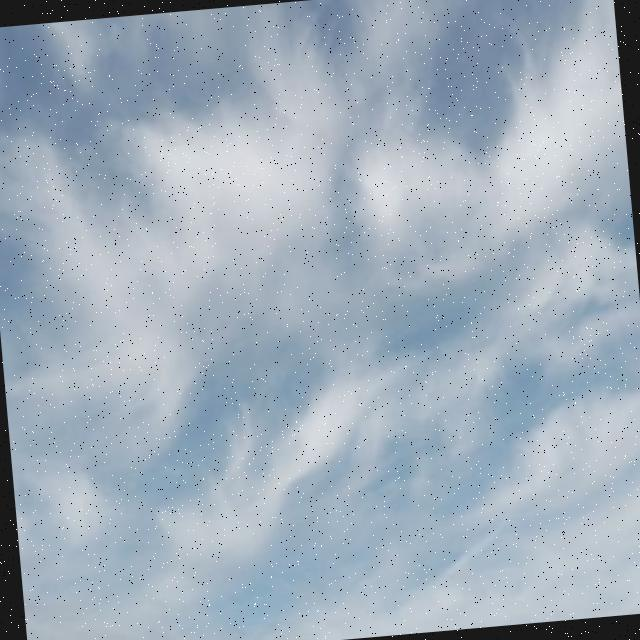Ci: (1, 1, 640, 600)
